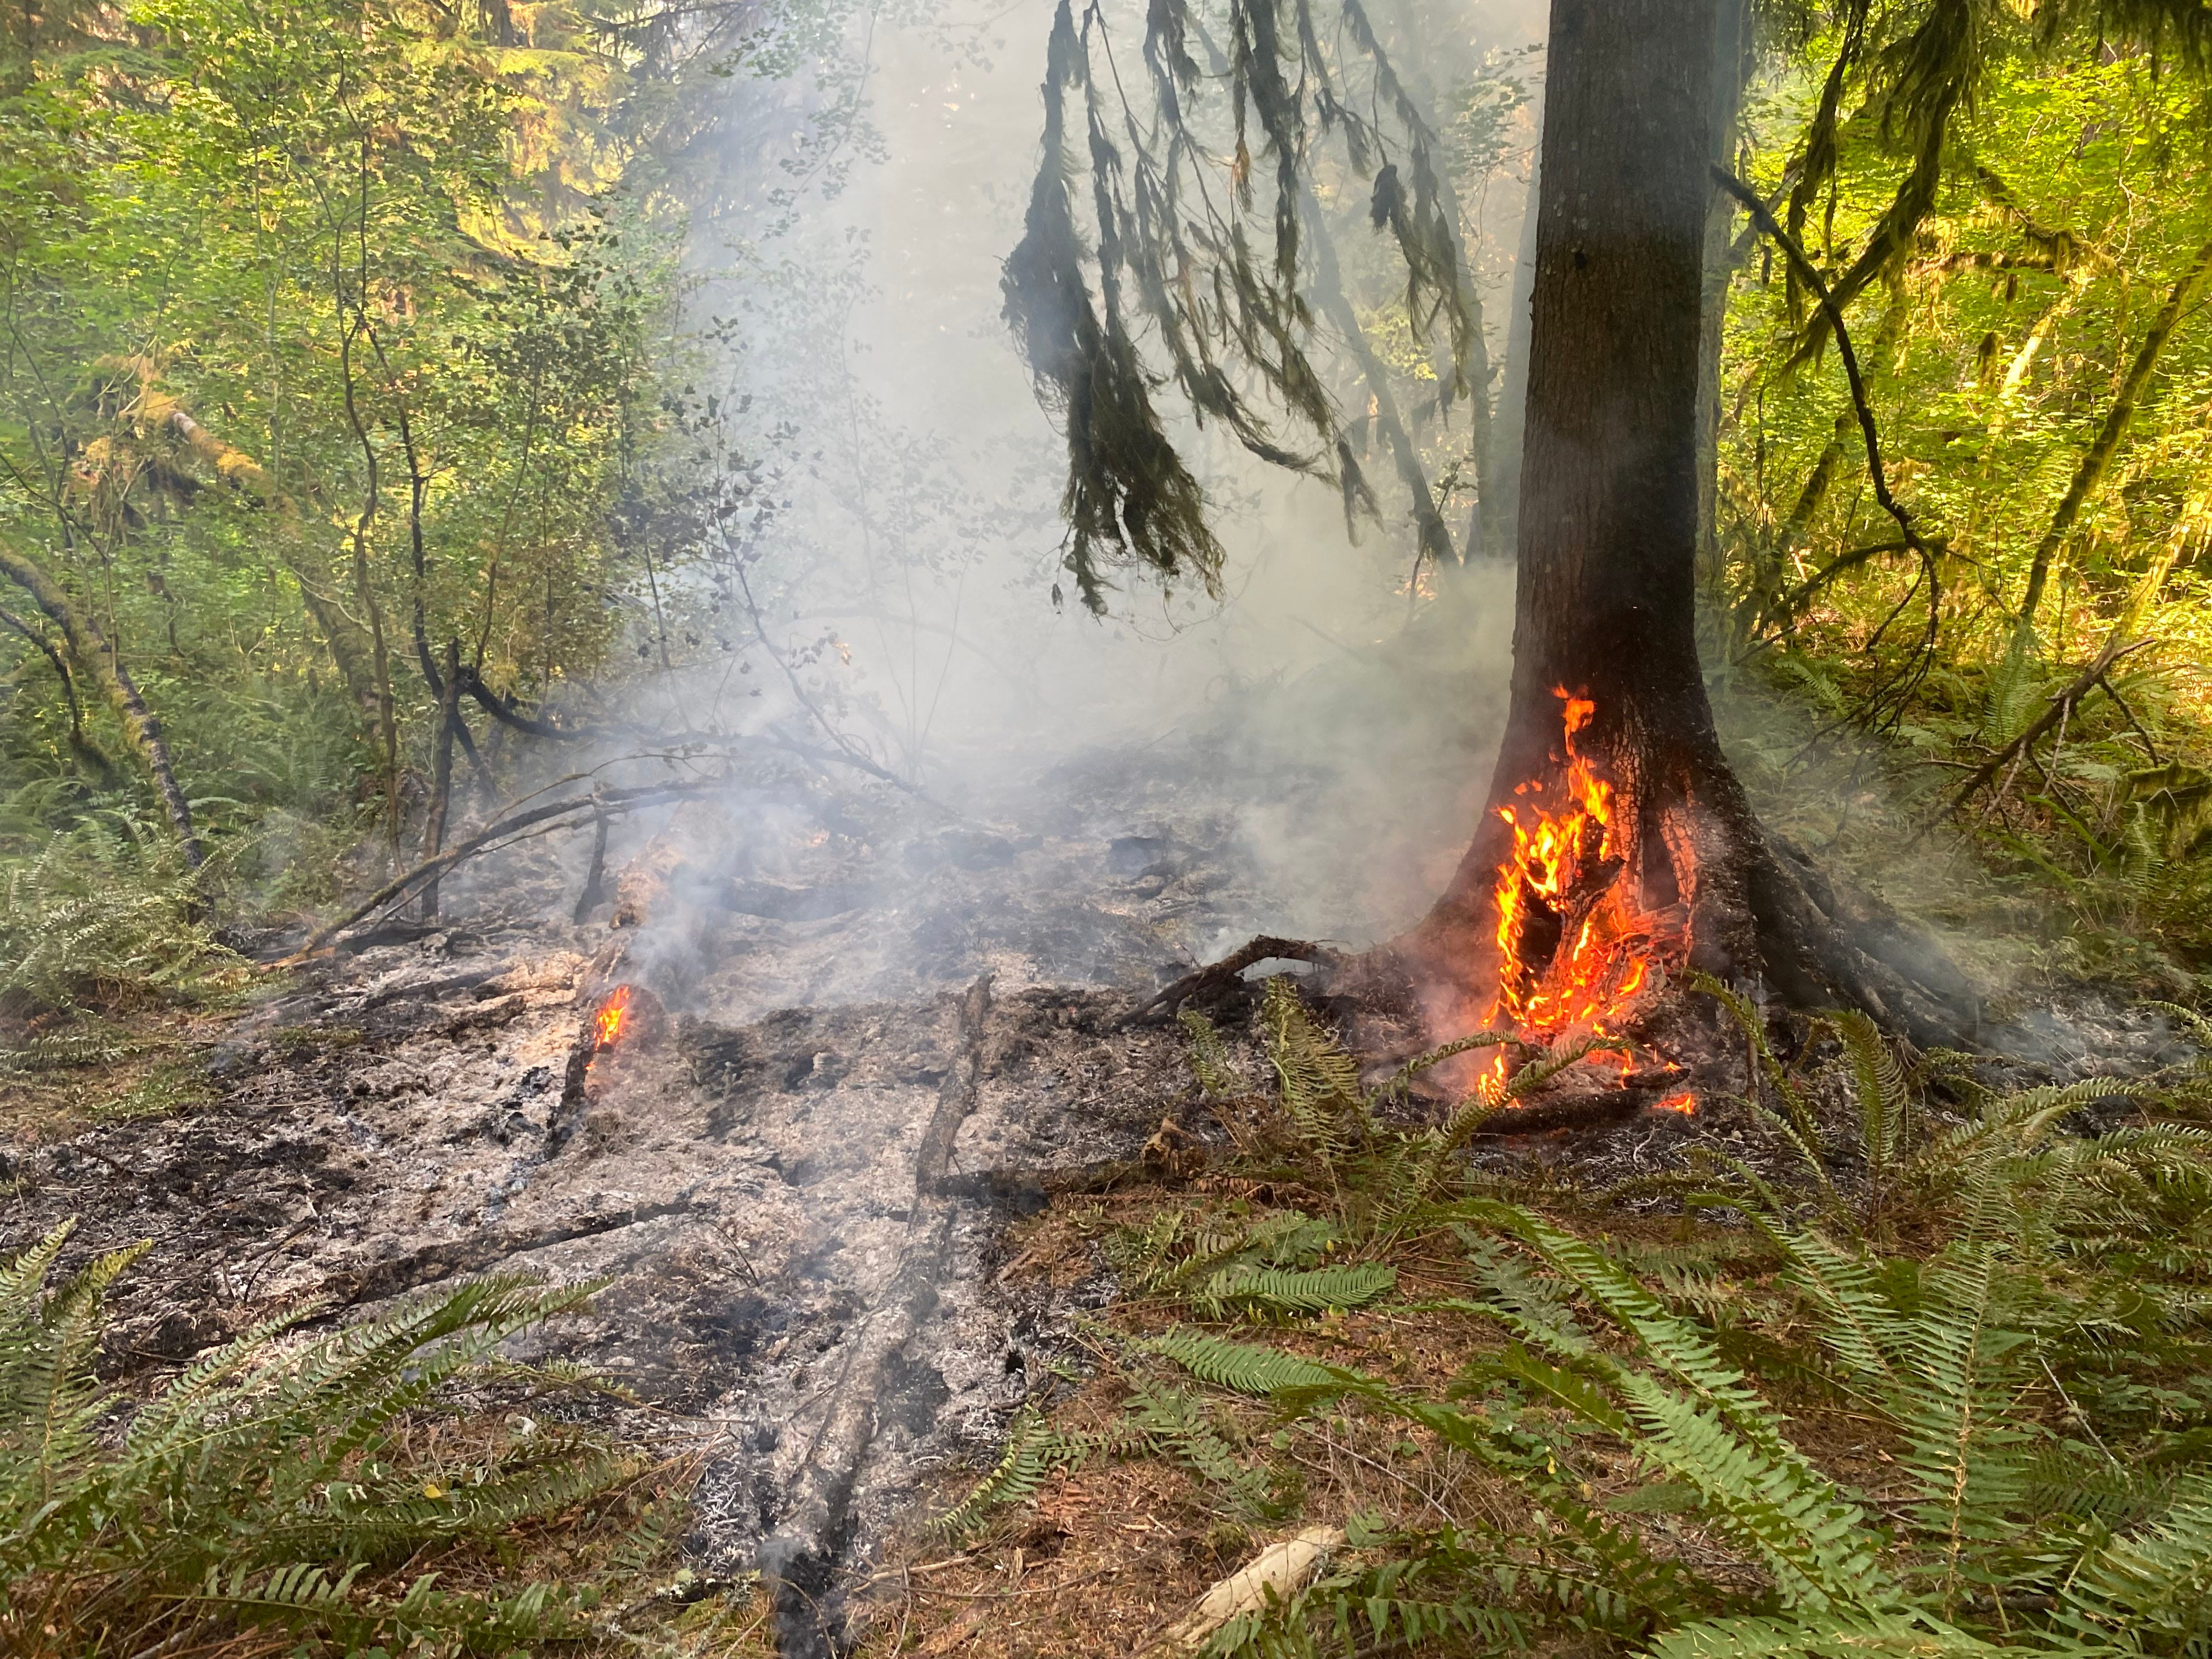fire: (1379, 716, 1975, 1251), (505, 727, 881, 1236)
